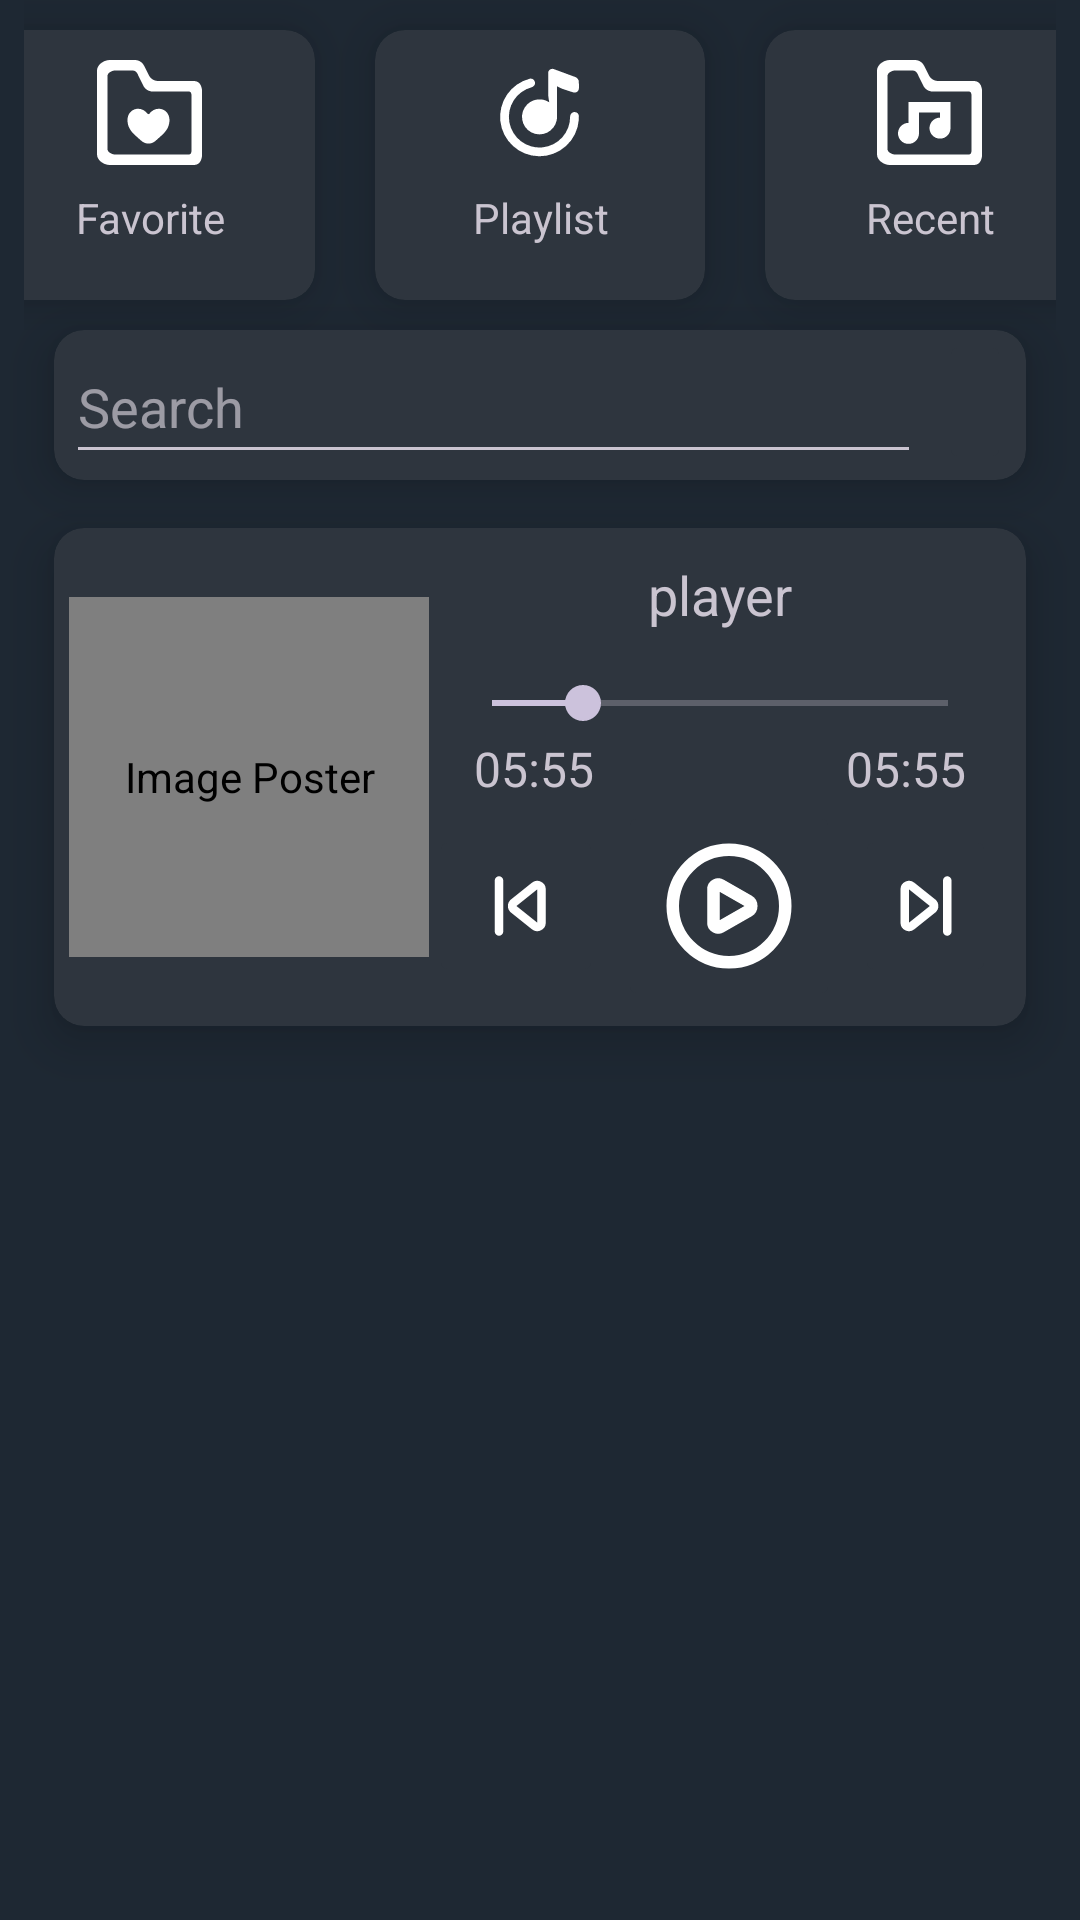

Icons on this 1080px×1920px Android screen, each with its box as (x1, y1, x2, y2):
play: (666, 843, 792, 969)
skip next: (900, 876, 952, 936)
skip previous: (494, 876, 546, 936)
